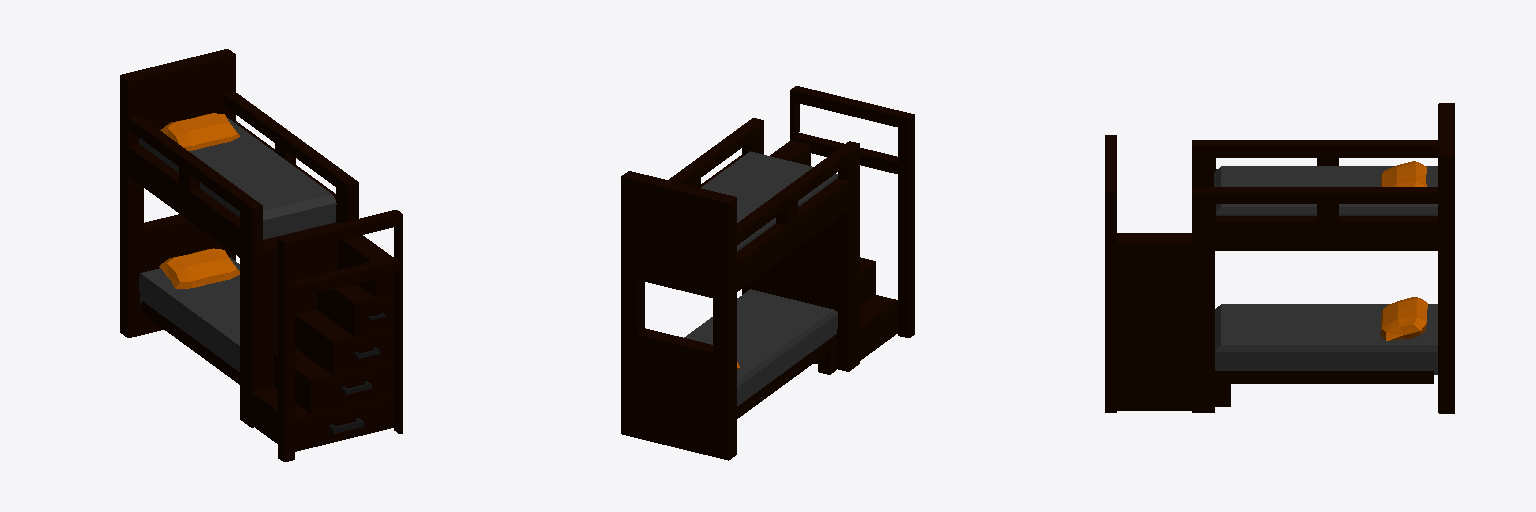
Rendered from BunkBed1.obj.
3 views of the same model, side by side, from view 1: azimuth 30°, elevation 25°; view 2: azimuth 150°, elevation 25°; view 3: azimuth 270°, elevation 25° (orthographic).
Visible parts, largest first — view 1: BunkBed1_Cube.012, Drawer4_BunkBed1_Cube.005, Drawer3_BunkBed1_Cube.004, Drawer2_BunkBed1_Cube.003, Drawer1_BunkBed1_Cube.001; view 2: BunkBed1_Cube.012; view 3: BunkBed1_Cube.012.
Boxes of the visible parts, x1,y1,x2,y2 form: BunkBed1_Cube.012: [120, 49, 402, 461]; Drawer4_BunkBed1_Cube.005: [295, 397, 392, 449]; Drawer3_BunkBed1_Cube.004: [315, 363, 392, 411]; Drawer2_BunkBed1_Cube.003: [337, 330, 392, 372]; Drawer1_BunkBed1_Cube.001: [358, 296, 392, 333]; BunkBed1_Cube.012: [621, 86, 914, 460]; BunkBed1_Cube.012: [1105, 103, 1454, 413].
Bounding box in the file's own units: 1.42 × 2.94 × 3.62.